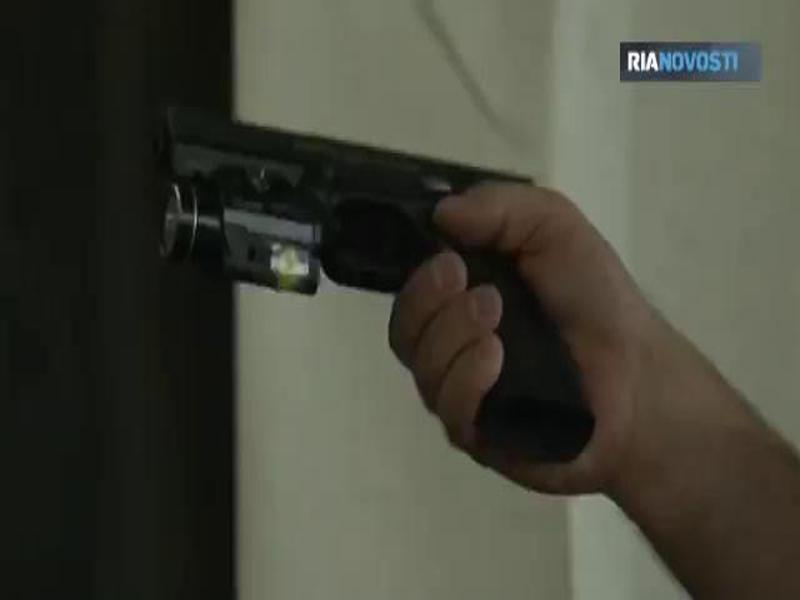Pistola: (138, 90, 597, 476)
